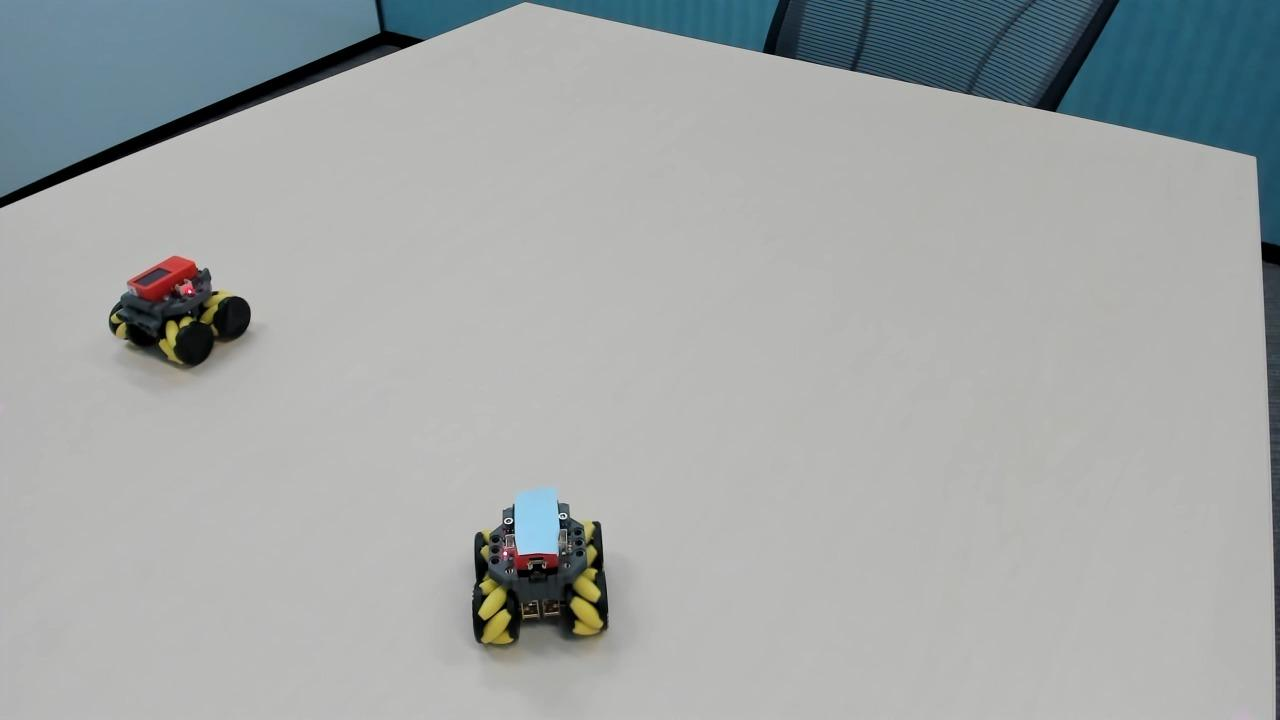B-Robot: (440, 486, 629, 668)
R-Robot: (96, 241, 268, 381)
